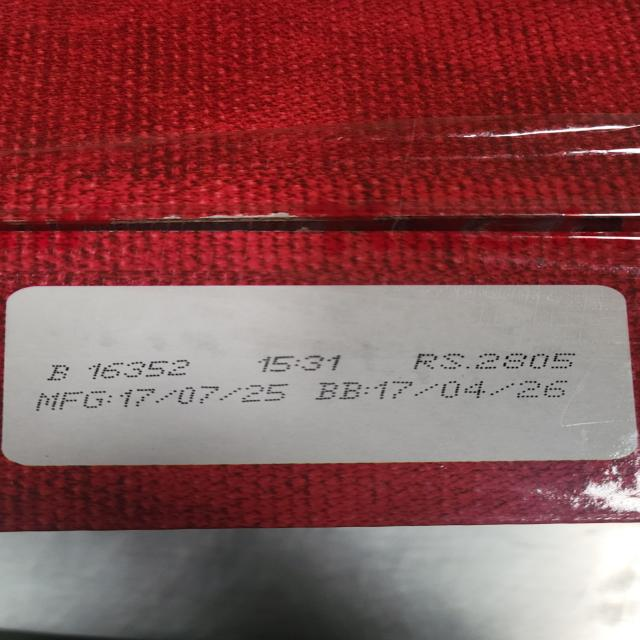BB: (314, 379, 574, 404)
Batch: (48, 360, 194, 379)
MFG: (34, 383, 294, 411)
RS: (410, 350, 580, 372)
TimeStamp: (252, 353, 354, 374)
